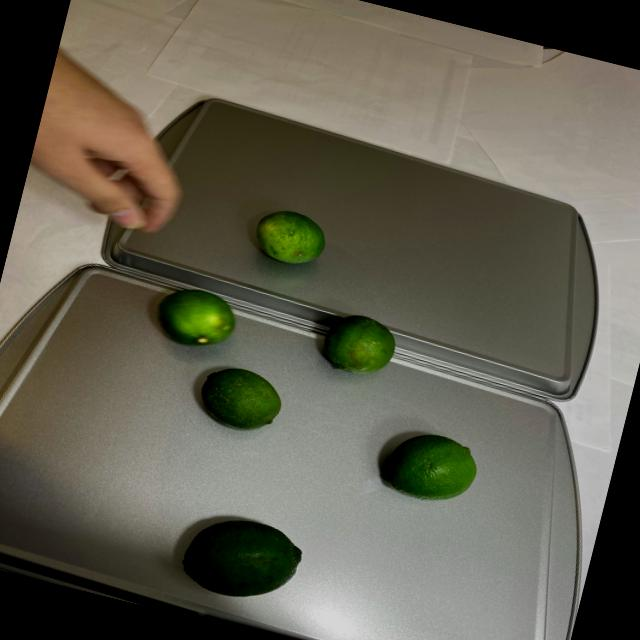lemon: (80, 257, 511, 640), (236, 194, 336, 274)
